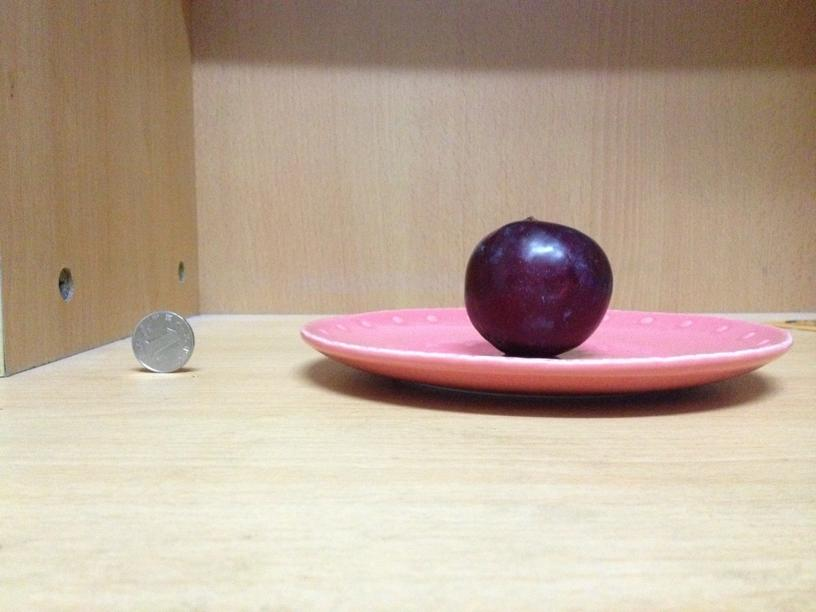coin: (135, 310, 195, 369)
plum: (470, 220, 608, 355)
